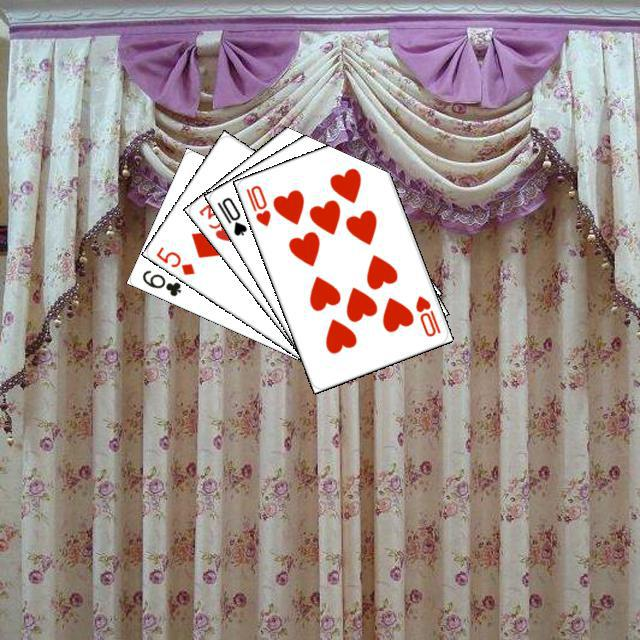10h: (410, 291, 443, 338), (241, 180, 272, 228)
10s: (212, 192, 249, 238)
3h: (194, 198, 232, 243)
5d: (151, 241, 196, 277)
6c: (137, 265, 183, 298)
